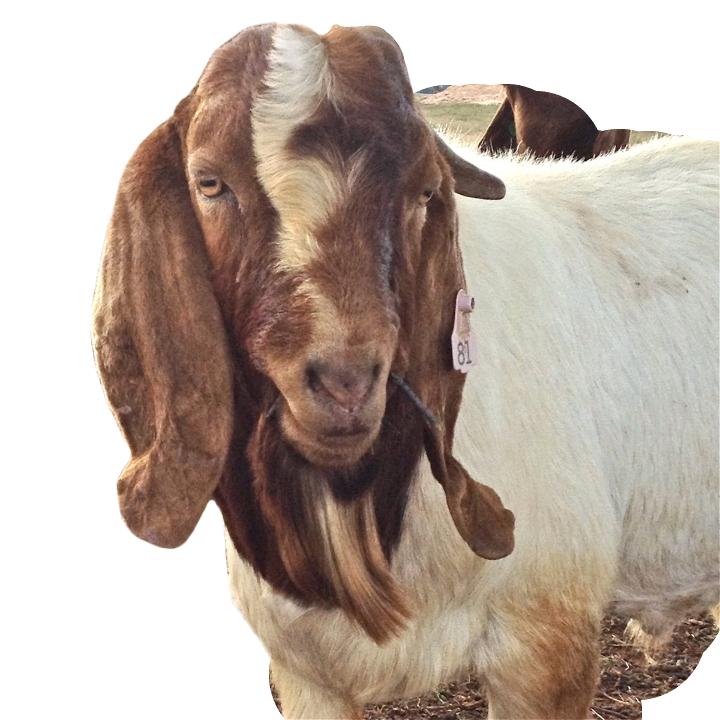Goat: (86, 19, 719, 719)
